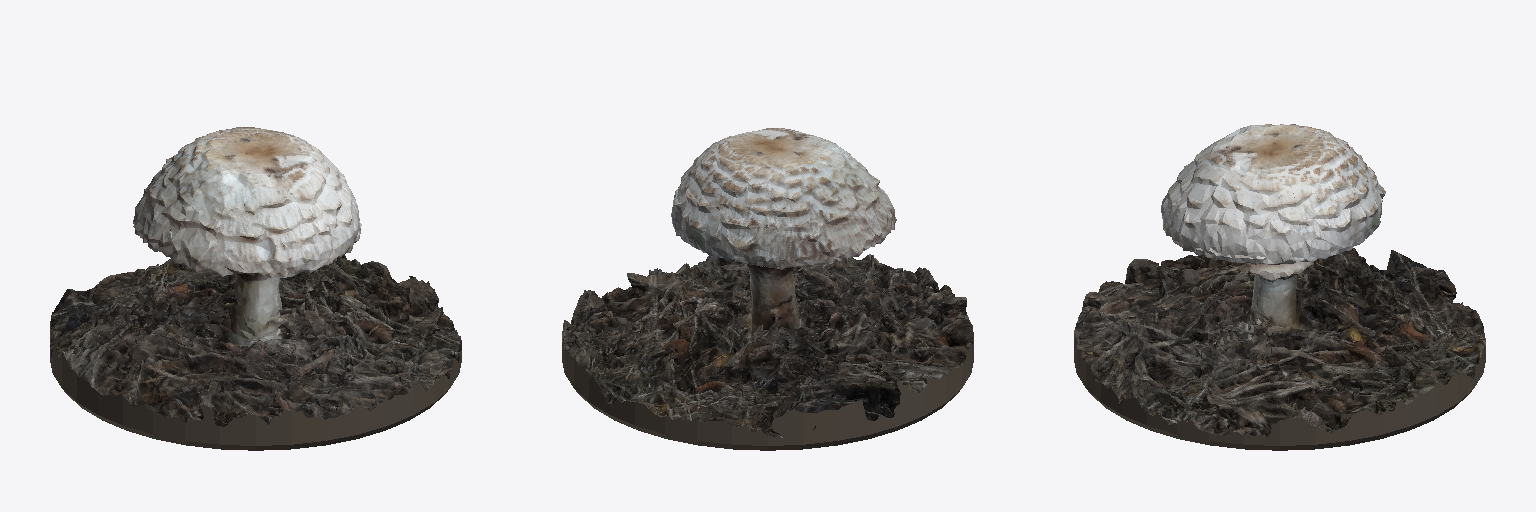
3 renders of one model, left to right at view 1: azimuth 30°, elevation 25°; view 2: azimuth 150°, elevation 25°; view 3: azimuth 270°, elevation 25°, orthographic.
Parts seen in each view (by area): view 1: mushroom-1; view 2: mushroom-1; view 3: mushroom-1.
Boxes of the visible parts, box(x1,y1,x2,y2) form: mushroom-1: box(50, 127, 461, 450); mushroom-1: box(562, 128, 973, 450); mushroom-1: box(1074, 124, 1485, 450).
Bounding box in the file's own units: 6.16 × 3.62 × 6.16.
Materials: 2 (1 with a texture image).